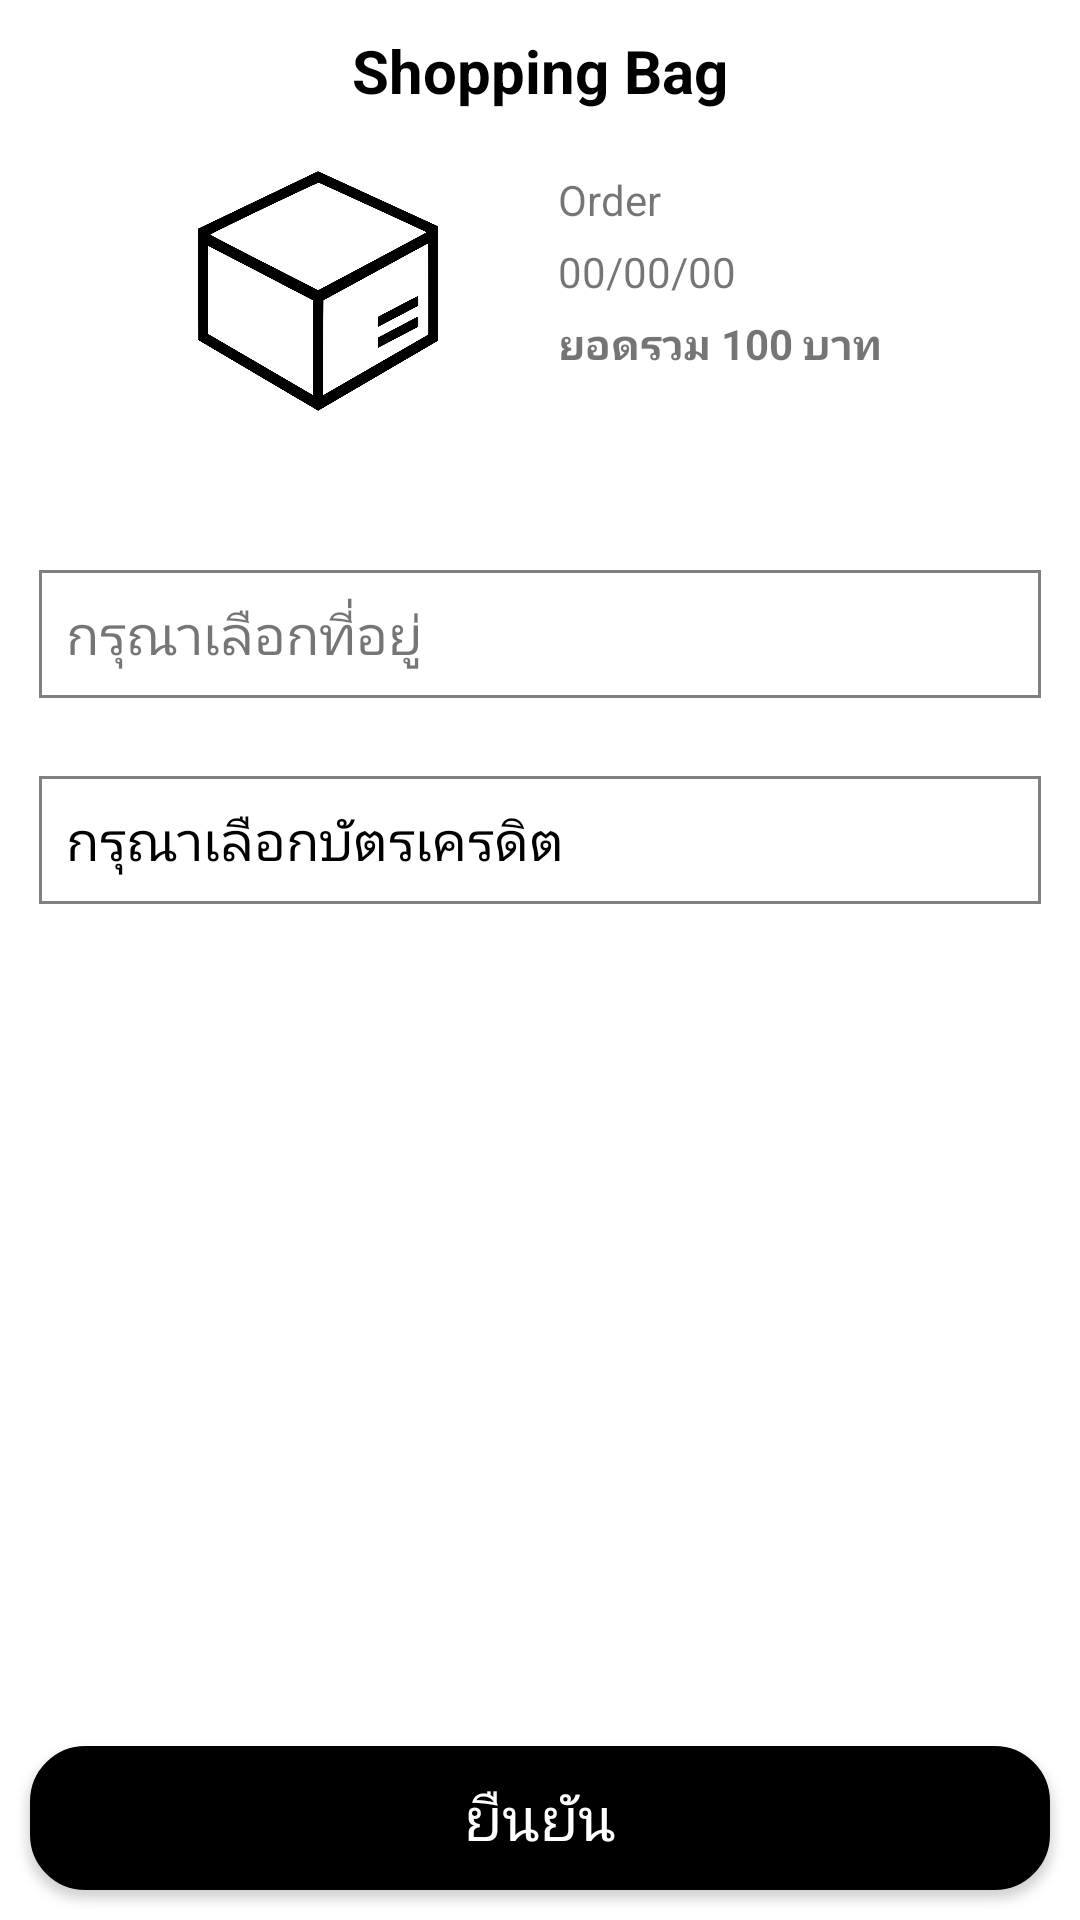

Where icons sit on this 1080×1920 app screen, as (x1, y1, x2, y2):
boxpng: (198, 171, 438, 411)
